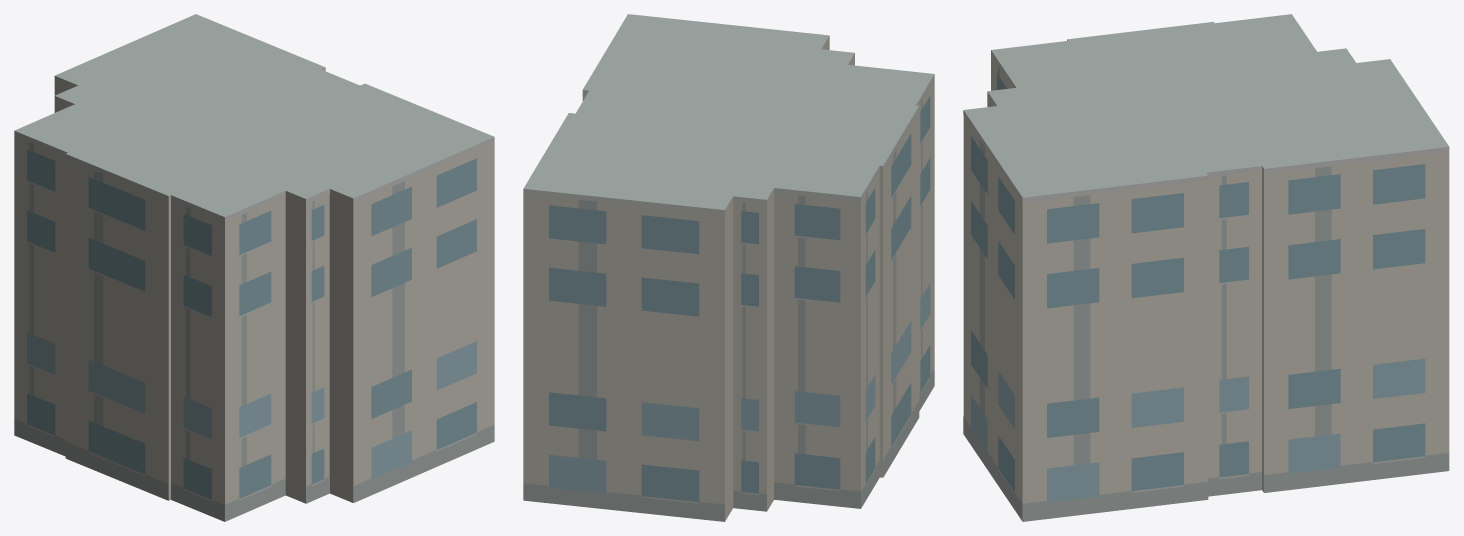
File: survey-upis-33006512.glb
3 renders of one model, left to right at view 1: azimuth 30°, elevation 25°; view 2: azimuth 150°, elevation 25°; view 3: azimuth 270°, elevation 25°, orthographic. The views are drawn at different scales.
Visible parts, largest first — view 1: survey-upis-33006512.tmp; view 2: survey-upis-33006512.tmp; view 3: survey-upis-33006512.tmp.
Boxes of the visible parts, x1,y1,x2,y2 form: survey-upis-33006512.tmp: (14, 14, 494, 521); survey-upis-33006512.tmp: (523, 14, 934, 521); survey-upis-33006512.tmp: (963, 14, 1449, 521).
Size of the model in its own units: 18.01 by 14.8 by 20.12.
